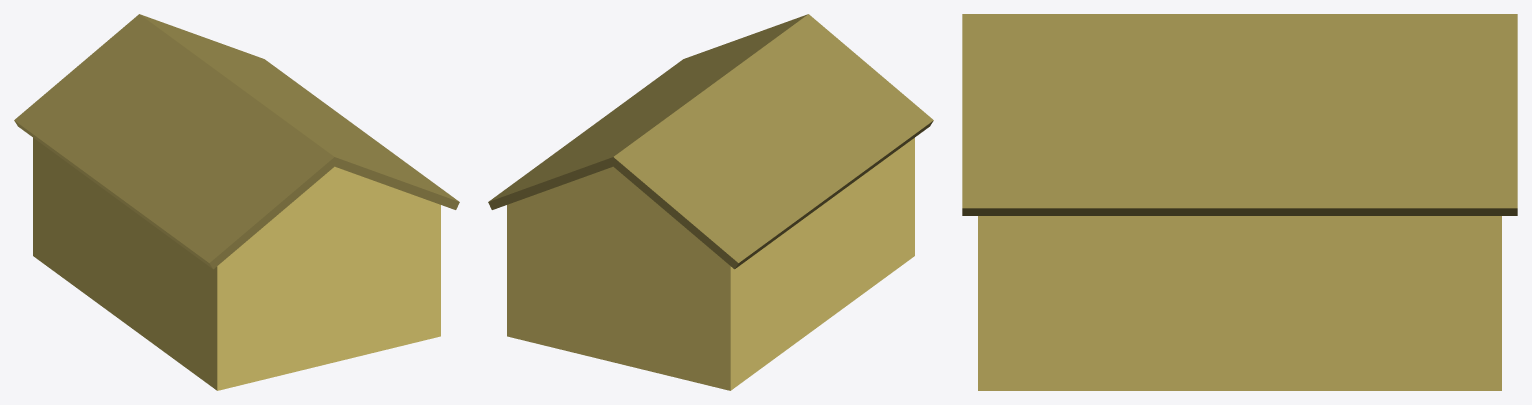
File: result.glb
3 renders of one model, left to right at view 1: azimuth 30°, elevation 25°; view 2: azimuth 150°, elevation 25°; view 3: azimuth 270°, elevation 25°, orthographic. The views are drawn at different scales.
Visible parts, largest first — view 1: 5b0145ee-e944-47df-9438-860e265d8ac0__undefined, c8ad6565-4050-4166-a7be-327e1360557e__undefined (×2); view 2: 5b0145ee-e944-47df-9438-860e265d8ac0__undefined, c8ad6565-4050-4166-a7be-327e1360557e__undefined (×2); view 3: c8ad6565-4050-4166-a7be-327e1360557e__undefined, 5b0145ee-e944-47df-9438-860e265d8ac0__undefined.
Part boxes in pixels (box(x1,y1,x2,y2)): 5b0145ee-e944-47df-9438-860e265d8ac0__undefined: box(33, 138, 440, 390); c8ad6565-4050-4166-a7be-327e1360557e__undefined (×2): box(14, 14, 459, 269); 5b0145ee-e944-47df-9438-860e265d8ac0__undefined: box(507, 138, 914, 390); c8ad6565-4050-4166-a7be-327e1360557e__undefined (×2): box(488, 14, 933, 269); c8ad6565-4050-4166-a7be-327e1360557e__undefined: box(962, 14, 1517, 215); 5b0145ee-e944-47df-9438-860e265d8ac0__undefined: box(978, 216, 1501, 390).
Bounding box in the file's own units: 785 × 631 × 1060.
